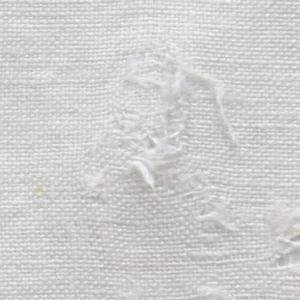Damage: (85, 39, 254, 261), (274, 218, 300, 284)
